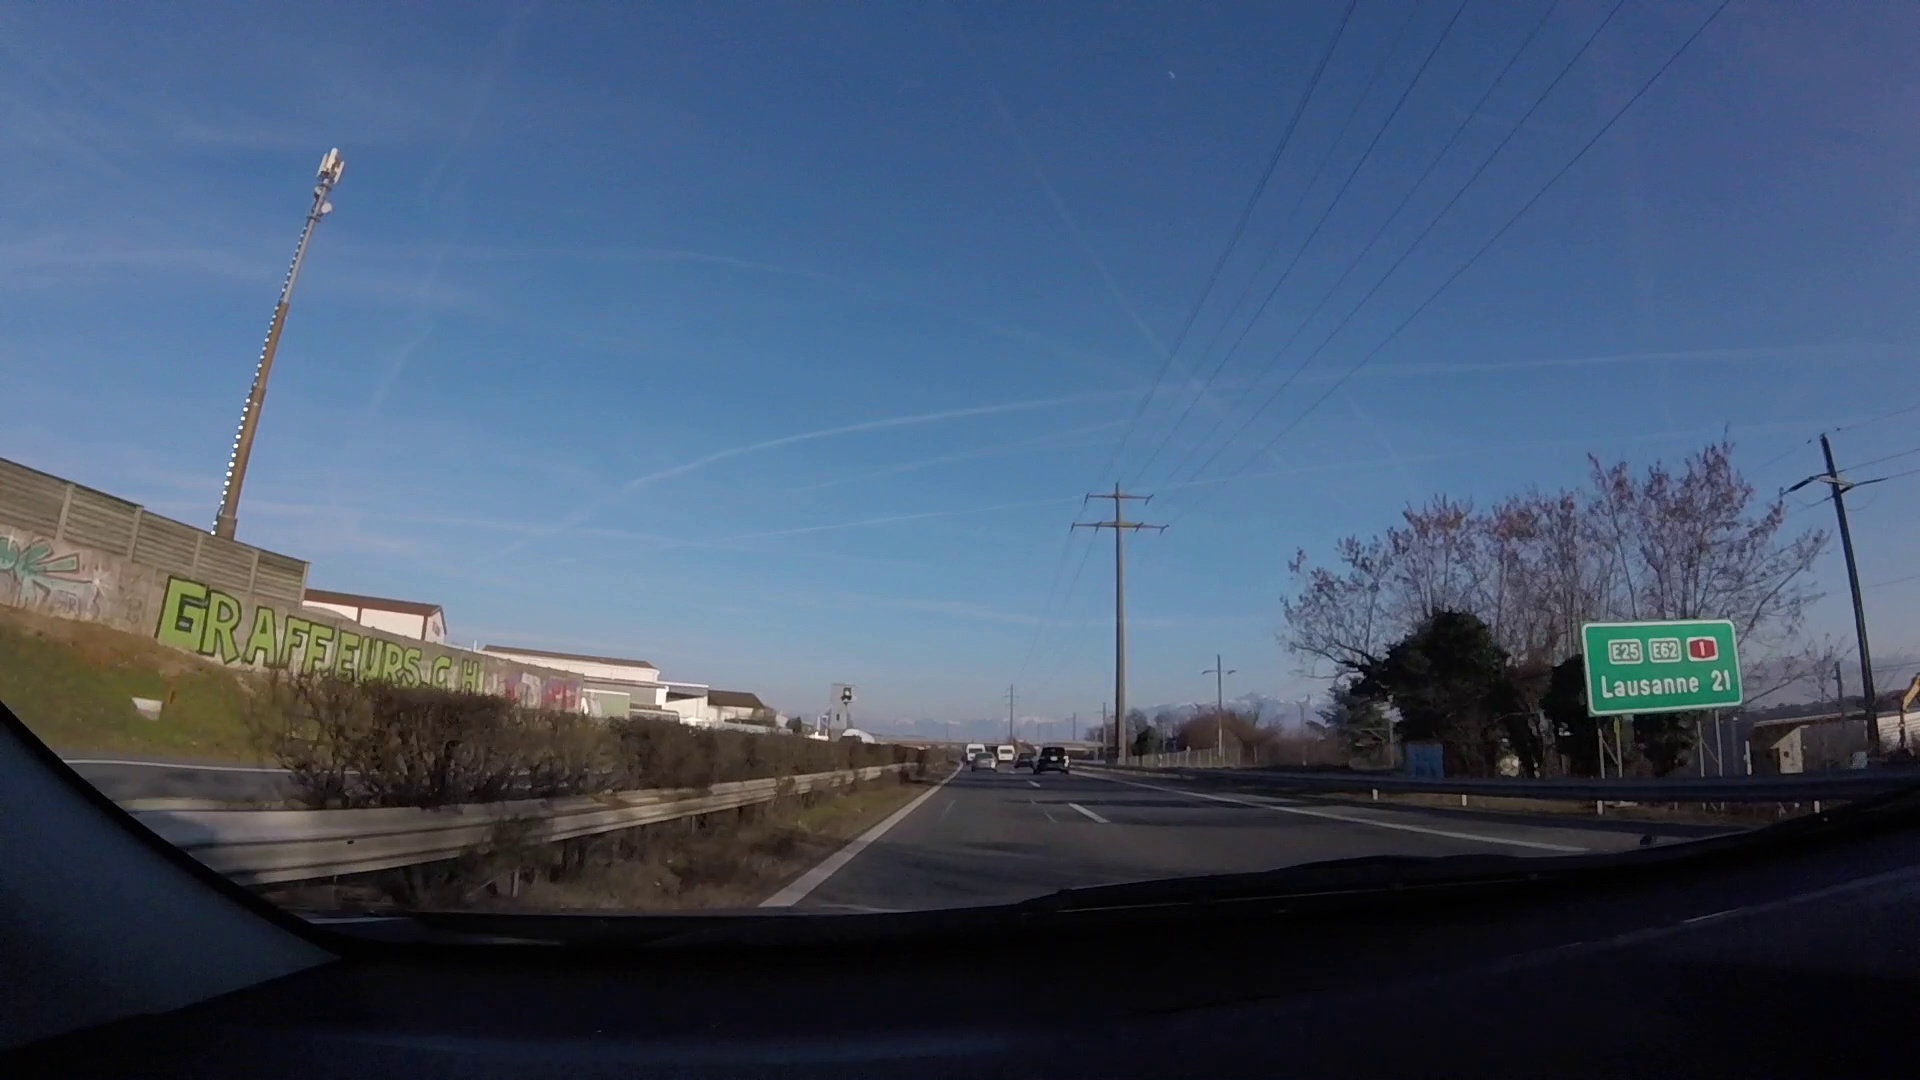radar: (827, 680, 858, 745)
